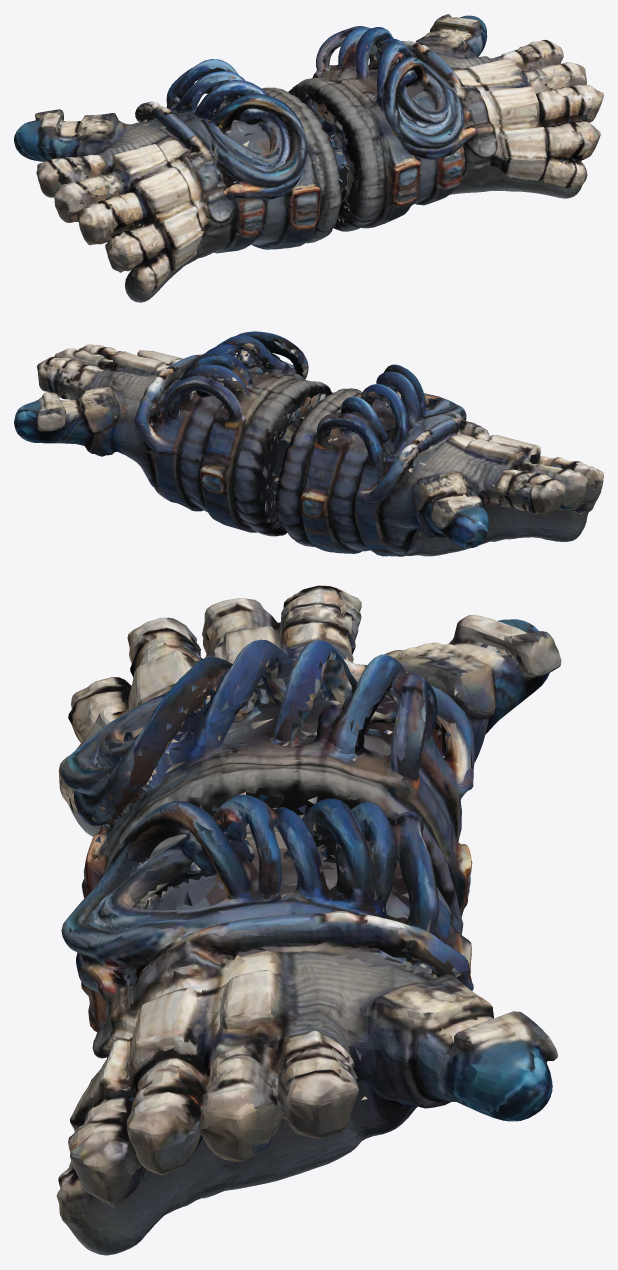
File: cooling-gear-gauntlets.glb
The picture shows the model from 3 angles, top to bottom: view 1: azimuth 30°, elevation 25°; view 2: azimuth 150°, elevation 25°; view 3: azimuth 270°, elevation 25°; orthographic projection. The views are drawn at different scales.
Visible parts, largest first — view 1: geometry_0; view 2: geometry_0; view 3: geometry_0.
Part boxes in pixels (x1,y1,x2,y2): geometry_0: (14, 14, 603, 302); geometry_0: (14, 331, 603, 556); geometry_0: (56, 585, 561, 1255).
Bounding box in the file's own units: 6.32 × 2 × 2.61.
Materials: 1 (1 with a texture image).
